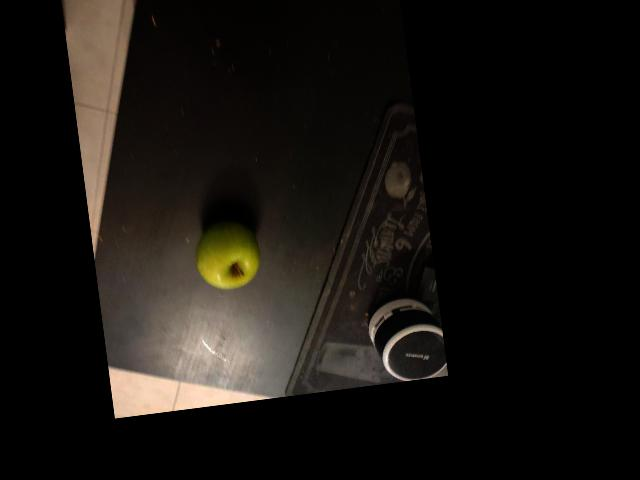apple: (235, 220, 331, 305)
